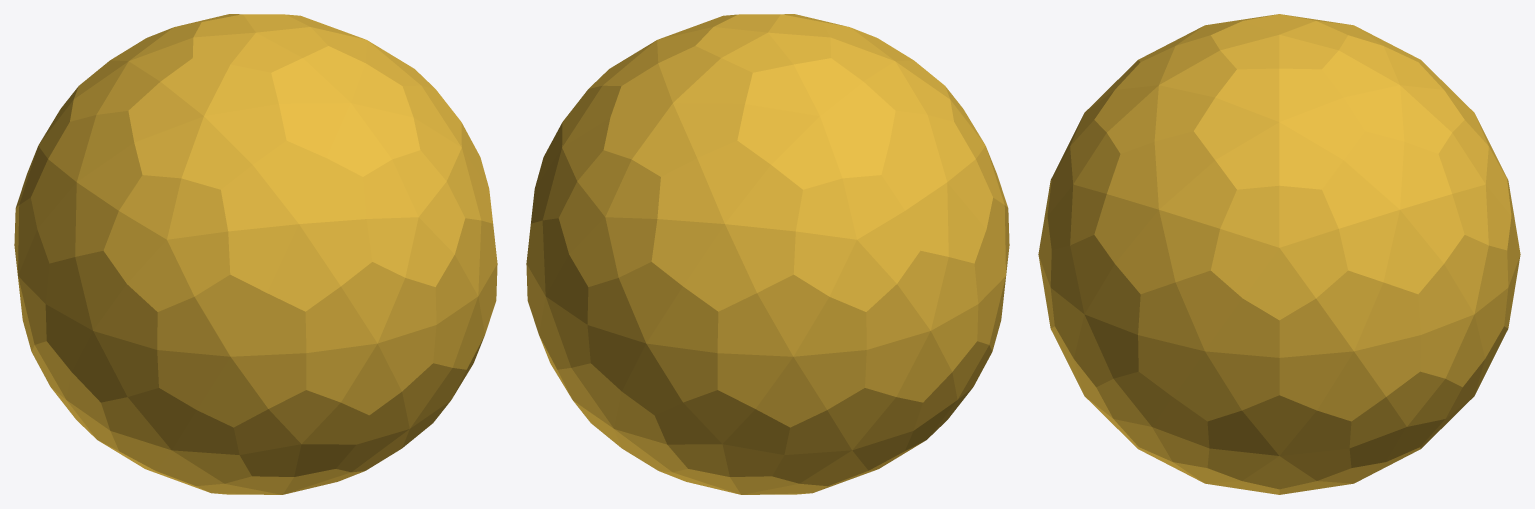
The model's file is sun.glb.
The picture shows the model from 3 angles, left to right: view 1: azimuth 30°, elevation 25°; view 2: azimuth 150°, elevation 25°; view 3: azimuth 270°, elevation 25°; orthographic projection.
Visible parts, largest first — view 1: Icosphere; view 2: Icosphere; view 3: Icosphere.
Part boxes in pixels (x1,y1,x2,y2): Icosphere: [14, 14, 497, 494]; Icosphere: [526, 14, 1009, 494]; Icosphere: [1038, 14, 1520, 494].
Size of the model in its own units: 1.85 by 1.86 by 1.85.
